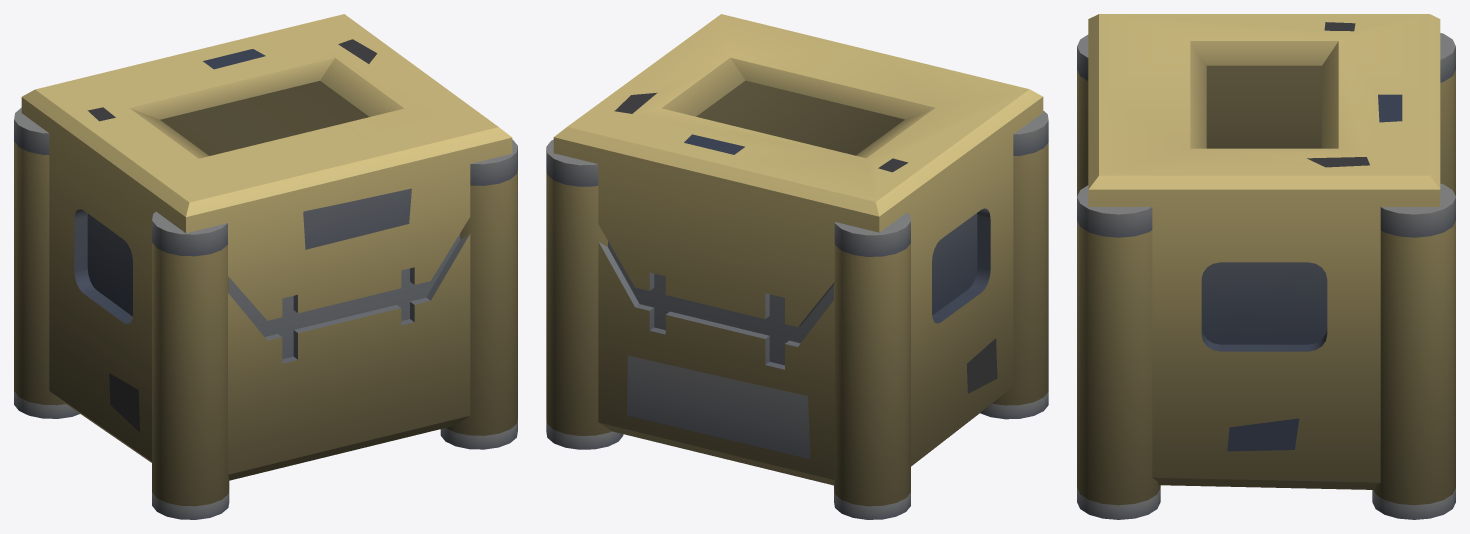
The model's file is Box2Big.fbx.
3 views of the same model, side by side, from view 1: azimuth 30°, elevation 25°; view 2: azimuth 150°, elevation 25°; view 3: azimuth 270°, elevation 25° (orthographic). The views are drawn at different scales.
Parts seen in each view (by area): view 1: Box2Big; view 2: Box2Big; view 3: Box2Big.
Boxes of the visible parts, box(x1,y1,x2,y2) form: Box2Big: box(14, 14, 517, 519); Box2Big: box(546, 14, 1048, 519); Box2Big: box(1077, 14, 1455, 519).
Bounding box in the file's own units: 1.85 × 1.6 × 1.54.
